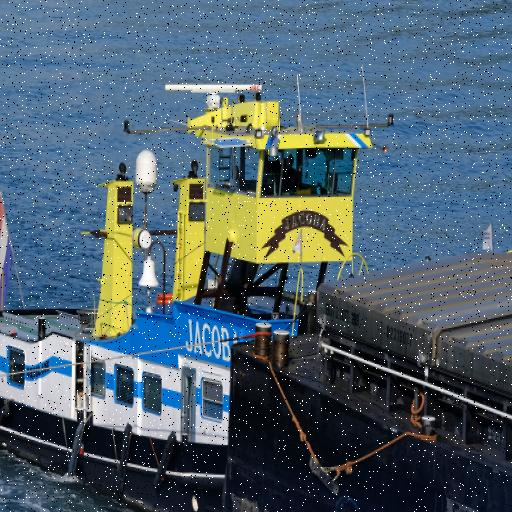tugboat: (1, 78, 391, 512)
